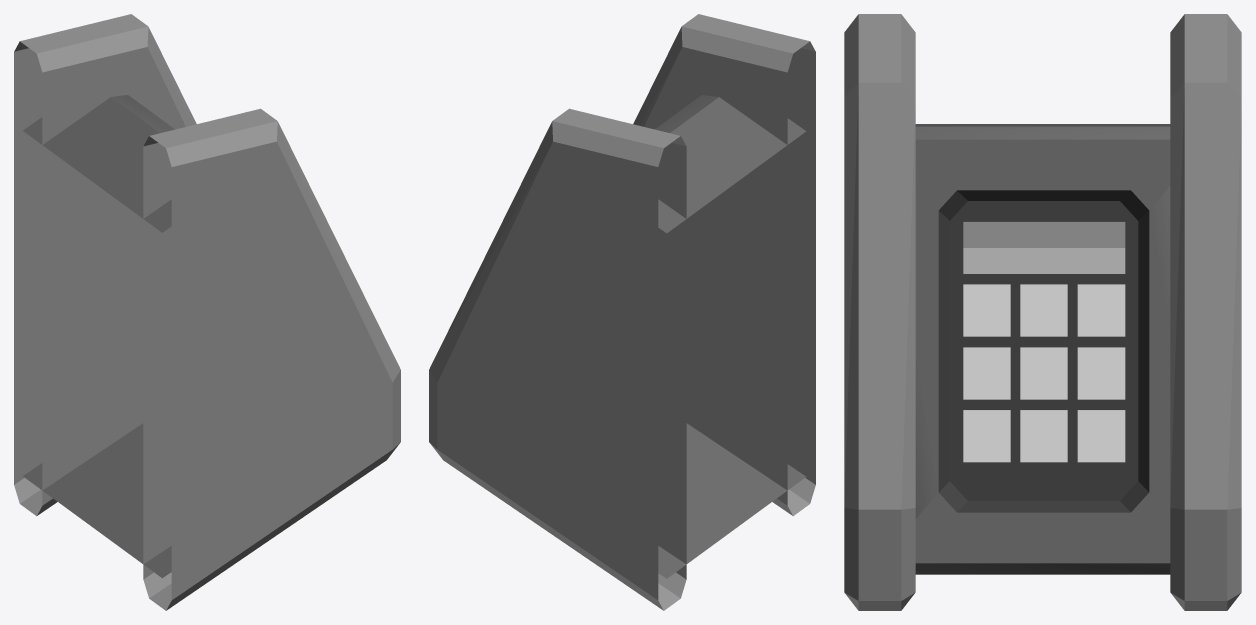
Rendered from keypad_A.FBX.
3 renders of one model, left to right at view 1: azimuth 30°, elevation 25°; view 2: azimuth 150°, elevation 25°; view 3: azimuth 270°, elevation 25°, orthographic. The views are drawn at different scales.
Visible parts, largest first — view 1: keypad_A; view 2: keypad_A; view 3: keypad_A, keypad_A_glow.
Boxes of the visible parts, box(x1,y1,x2,y2) form: keypad_A: box(14, 14, 400, 610); keypad_A: box(429, 14, 815, 610); keypad_A: box(844, 14, 1241, 610); keypad_A_glow: box(963, 221, 1125, 273).
Bounding box in the file's own units: 7.35 × 13.83 × 8.54.
